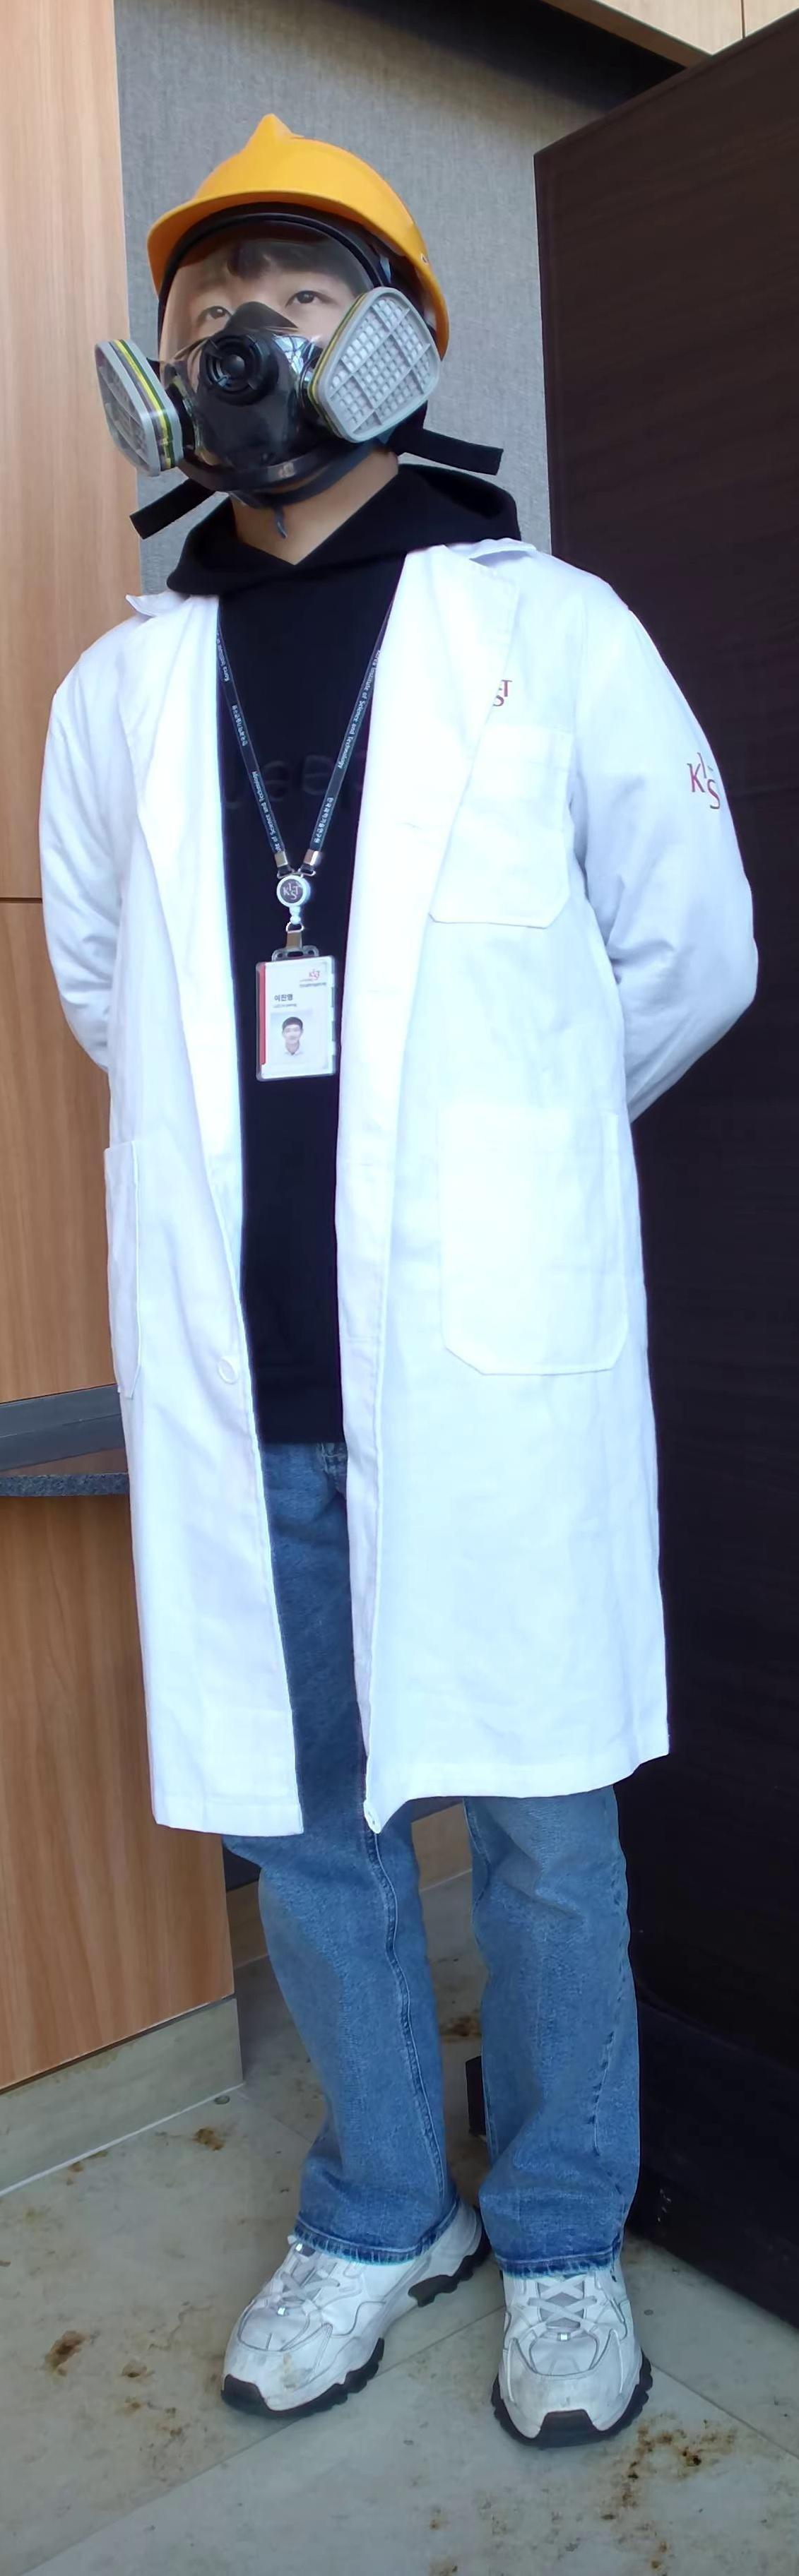lab_coat: (0, 580, 761, 1814)
